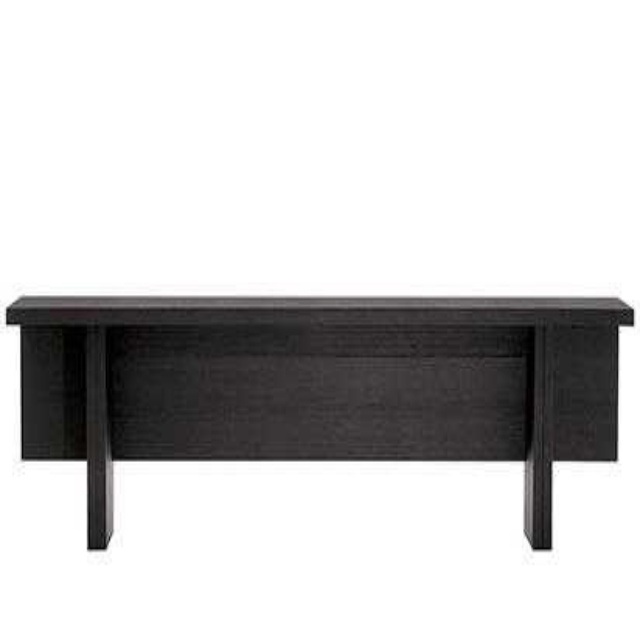obstacle: (6, 296, 632, 547)
